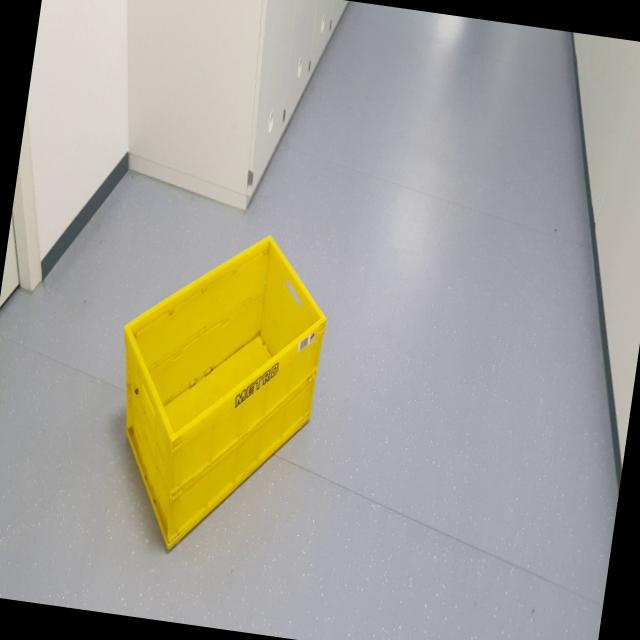box: (79, 200, 346, 621)
